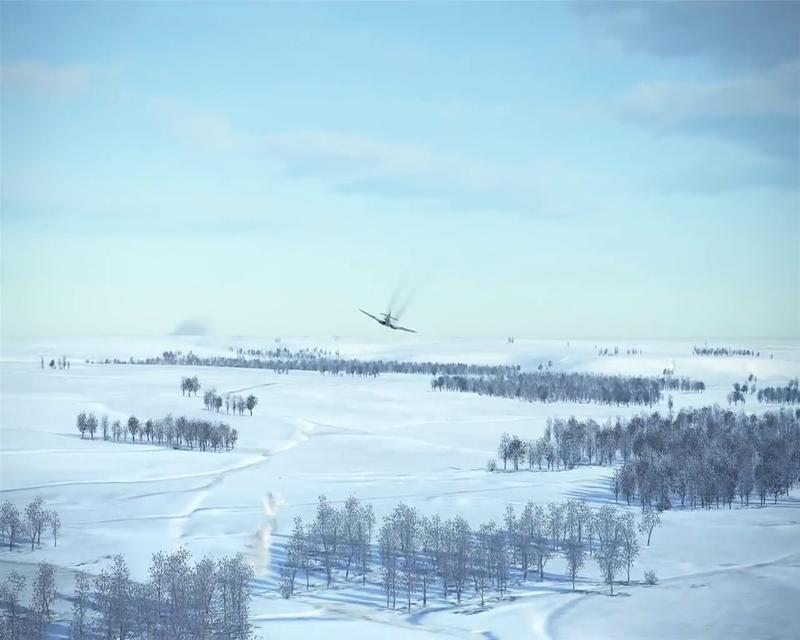UAV: (359, 310, 418, 336)
